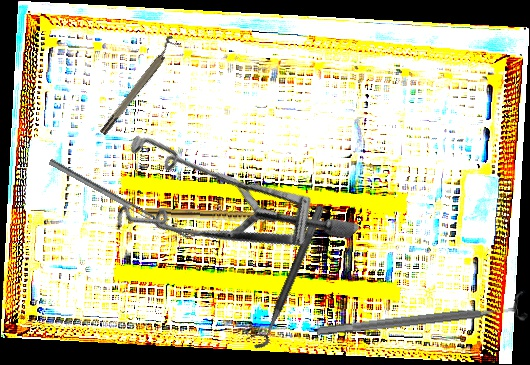Fixation Ring: (314, 289, 530, 348), (244, 199, 326, 353), (94, 34, 182, 137)
Handpiece: (144, 207, 284, 225)
Spatula Surgical: (48, 153, 200, 245)
Speculum: (81, 67, 362, 349)
